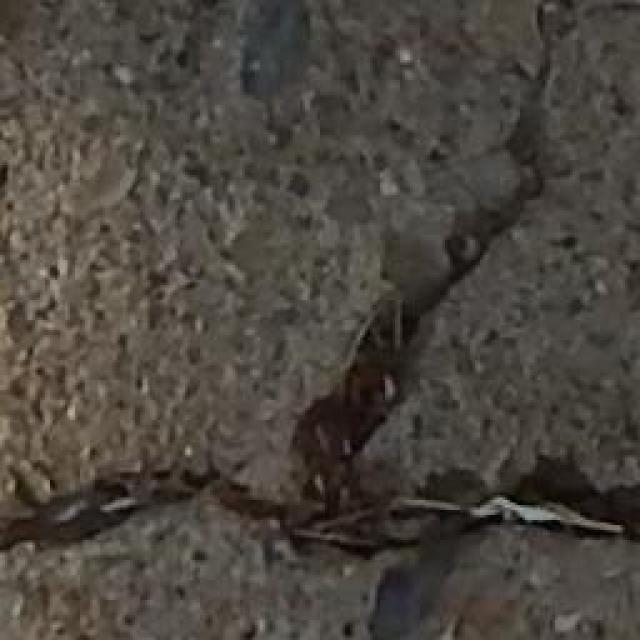concrete-crack: (0, 1, 640, 640)
